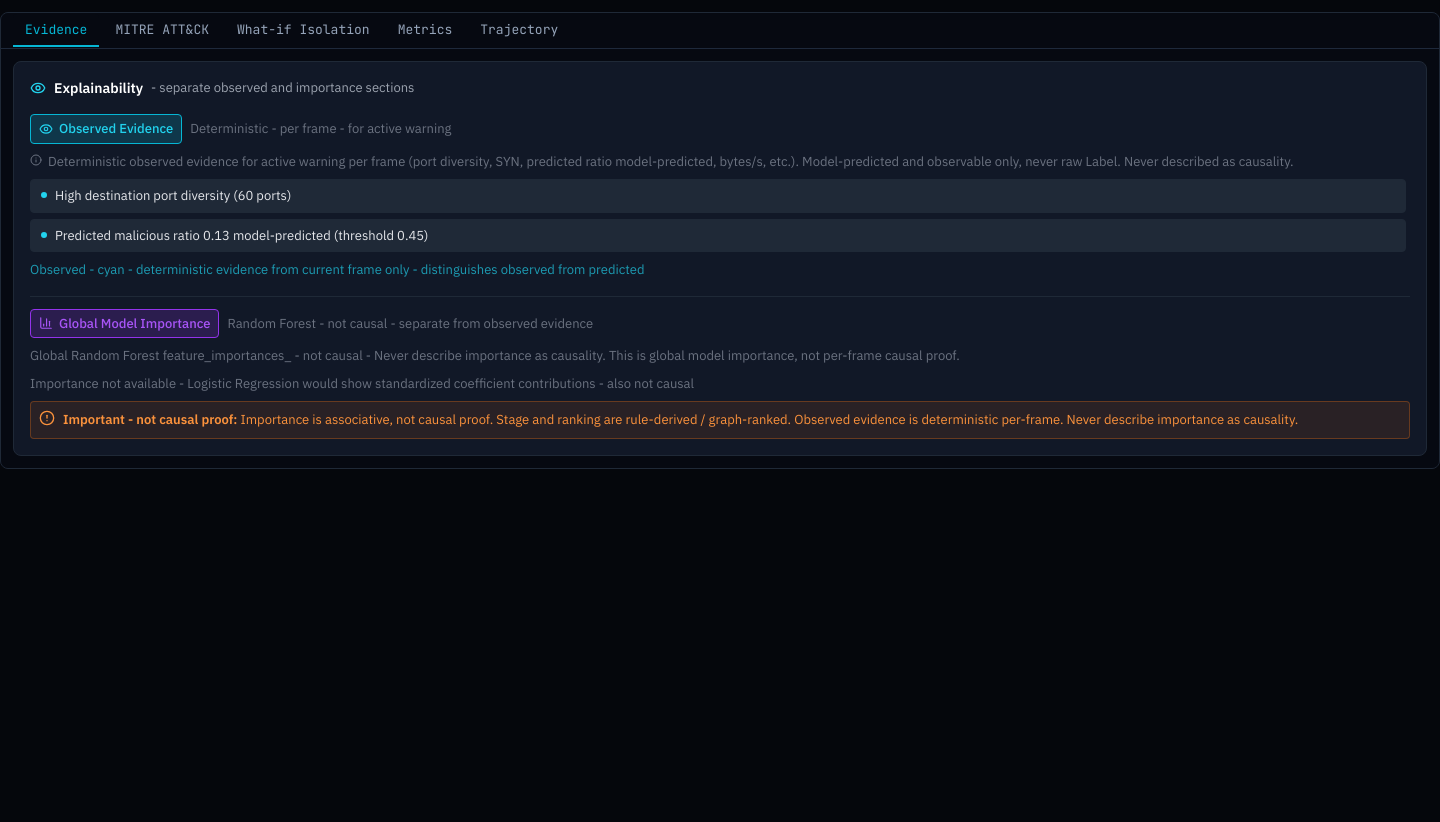
Scenario: WorkspaceTabs - tabbed lower workspace › allows legitimate malicious F1 0.850 while blocking Stitch hardcoded macro 0.850
Click the tab "Metrics".
click(425, 31)  # box [386, 14, 464, 47]
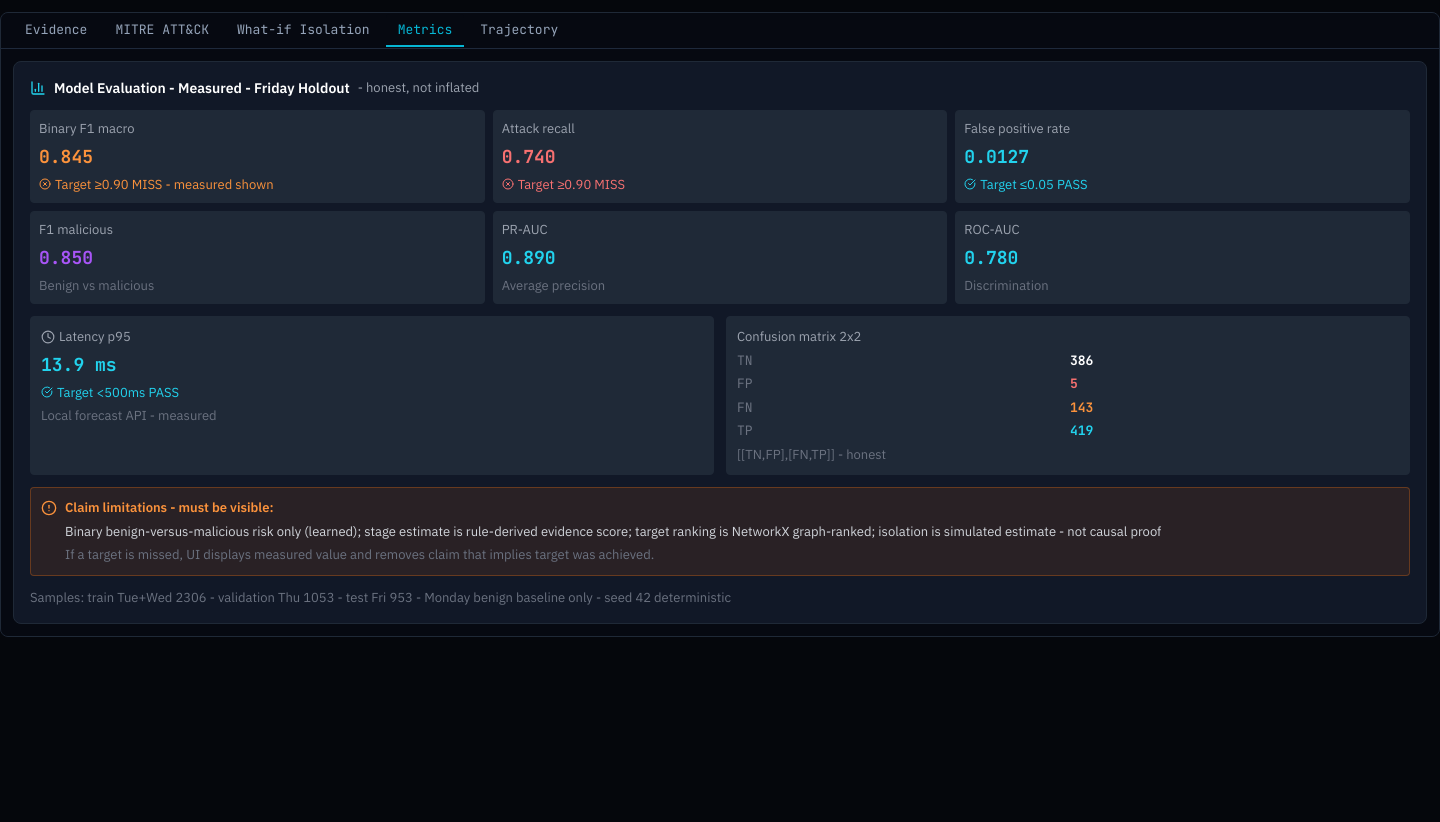
Expected: the text "Binary F1 macro" does not show "0.850"
Expected: the text "Binary F1 macro" shows "0.845", [39, 144, 93, 168]
Expected: the text "F1 malicious" shows "0.850", [39, 246, 93, 268]
